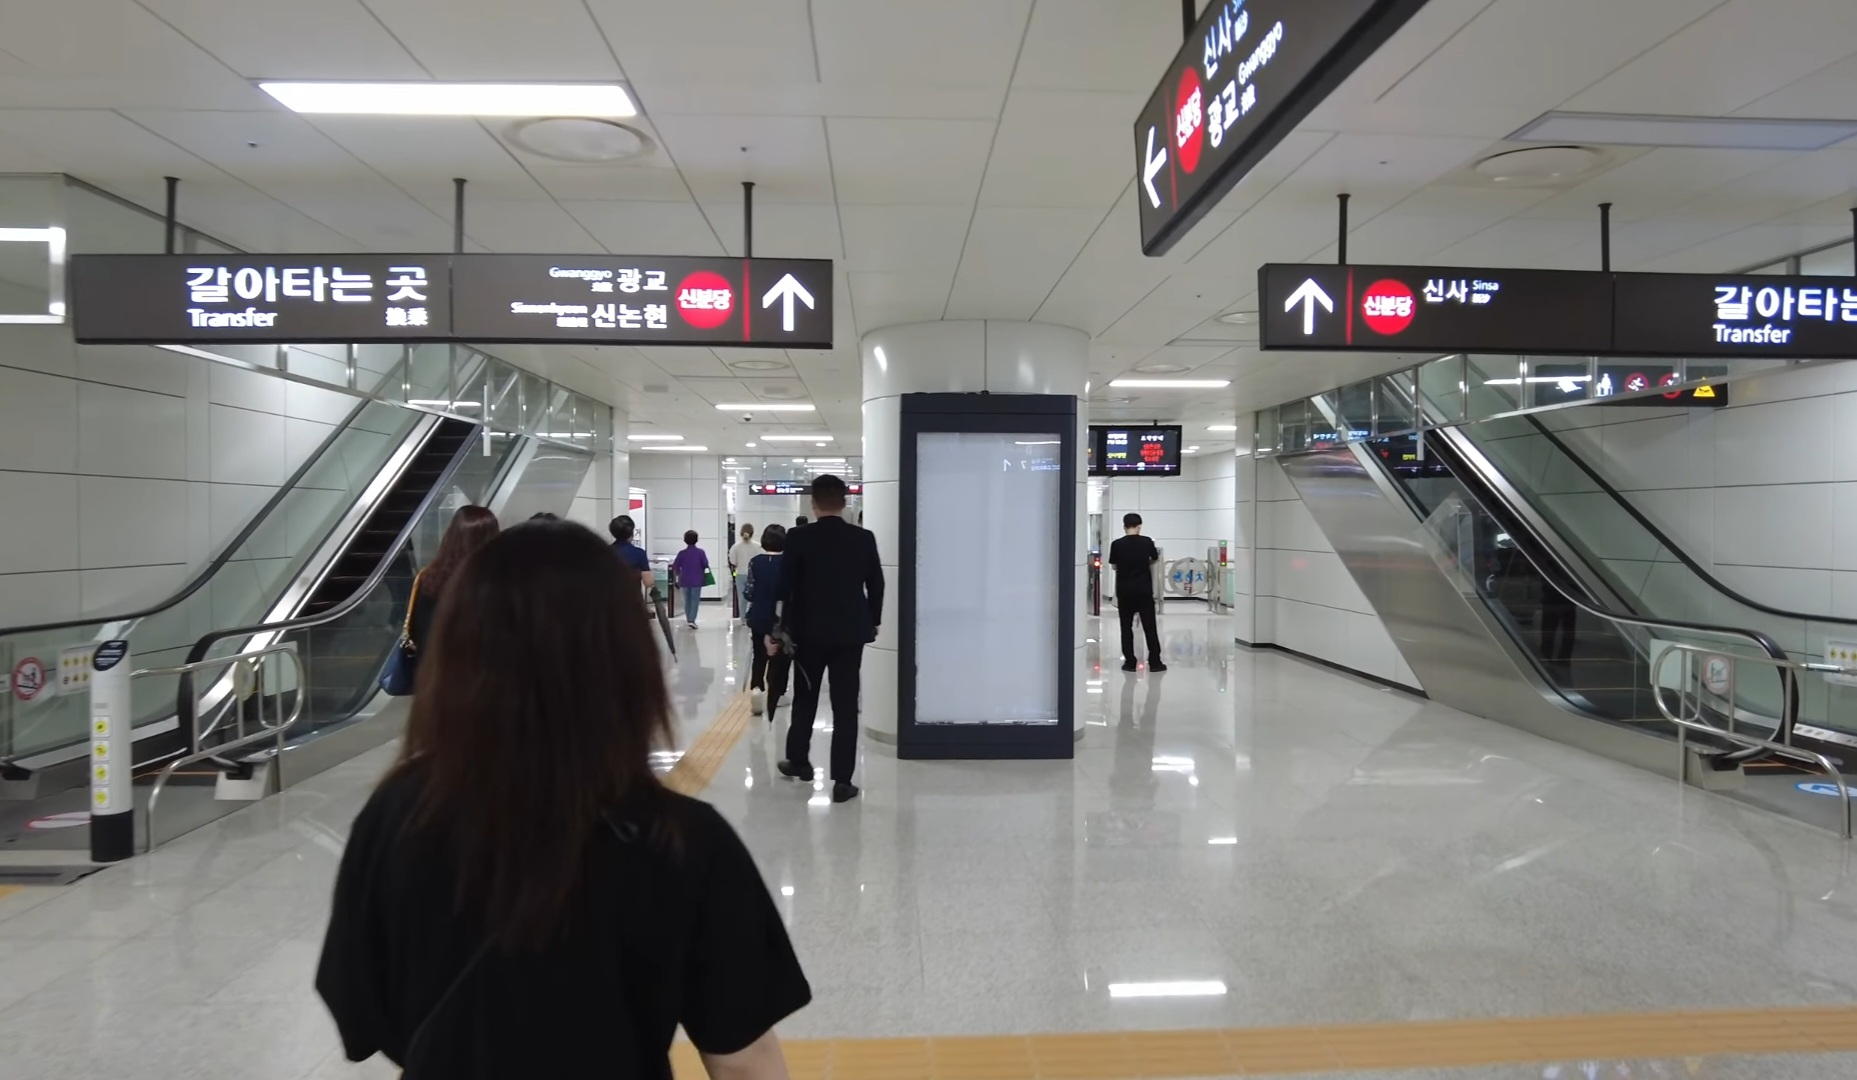signBoard: (58, 219, 846, 363)
